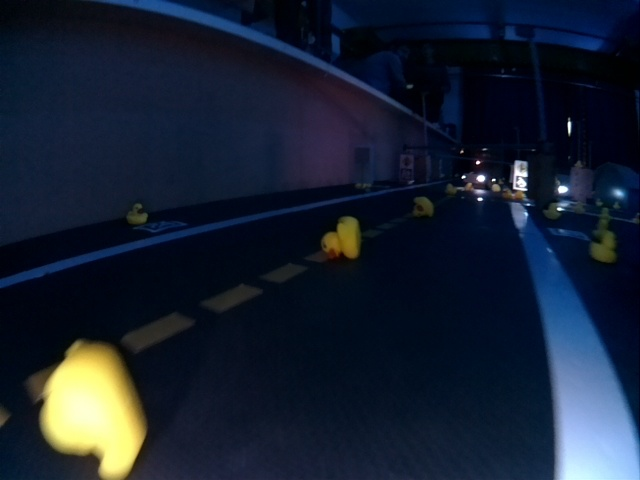Duckie: (40, 340, 146, 462), (322, 218, 361, 260), (593, 232, 617, 263), (413, 196, 434, 217), (127, 203, 148, 223), (544, 205, 560, 219), (446, 184, 454, 194)
QR code: (136, 220, 186, 232)
